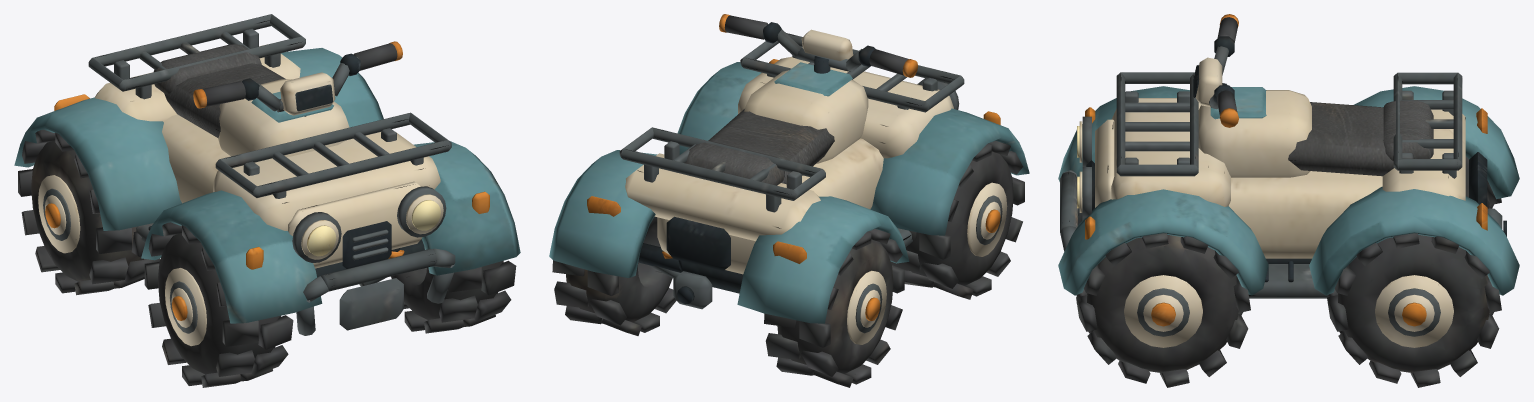
The model's file is atv.fbx.
3 renders of one model, left to right at view 1: azimuth 30°, elevation 25°; view 2: azimuth 150°, elevation 25°; view 3: azimuth 270°, elevation 25°, orthographic. The views are drawn at different scales.
Parts seen in each view (by area): view 1: SM_ATV_Trail; view 2: SM_ATV_Trail; view 3: SM_ATV_Trail.
Boxes of the visible parts, x1,y1,x2,y2 form: SM_ATV_Trail: (14,14,520,387); SM_ATV_Trail: (549,14,1029,387); SM_ATV_Trail: (1058,14,1519,387).
Size of the model in its own units: 181 by 239 by 146.
8 materials, 8 textured.
